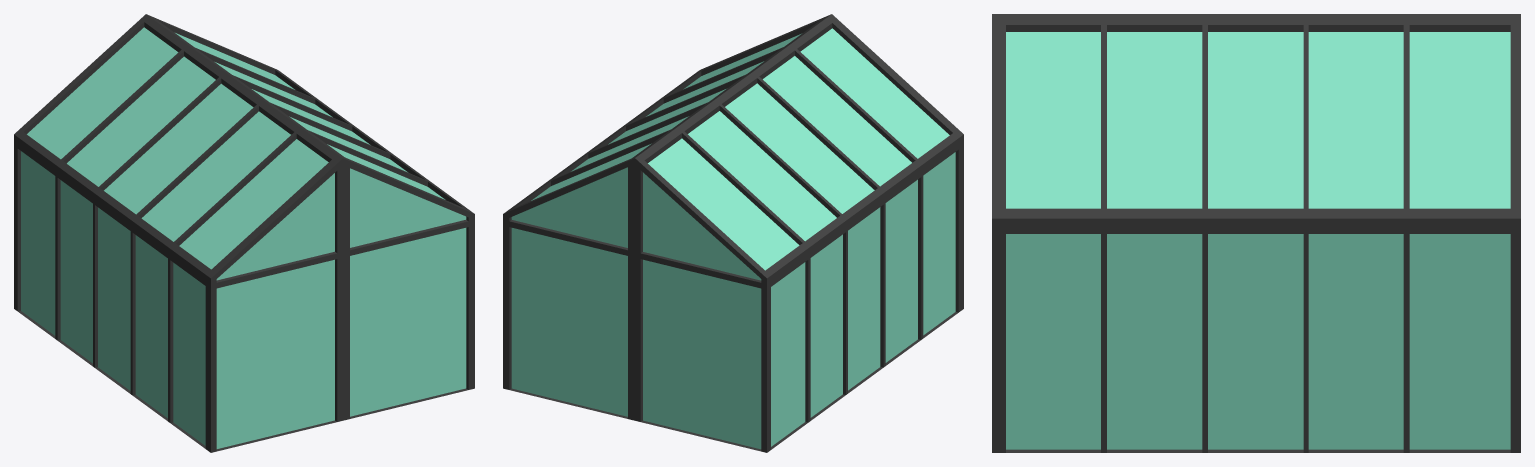
3 renders of one model, left to right at view 1: azimuth 30°, elevation 25°; view 2: azimuth 150°, elevation 25°; view 3: azimuth 270°, elevation 25°, orthographic. The views are drawn at different scales.
Visible parts, largest first — view 1: Greenhouse_2; view 2: Greenhouse_2; view 3: Greenhouse_2.
Part boxes in pixels (x1=…): Greenhouse_2: x1=14, y1=14, x2=474, y2=452; Greenhouse_2: x1=503, y1=14, x2=963, y2=452; Greenhouse_2: x1=992, y1=14, x2=1520, y2=452.
Bounding box in the file's own units: 3.17 × 3.01 × 4.09.
